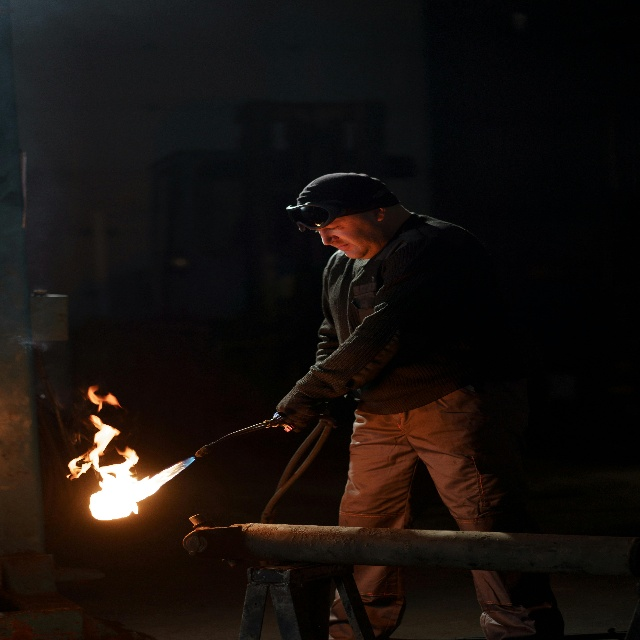Gafas: (286, 199, 347, 233)
Guantes: (275, 383, 323, 436)
